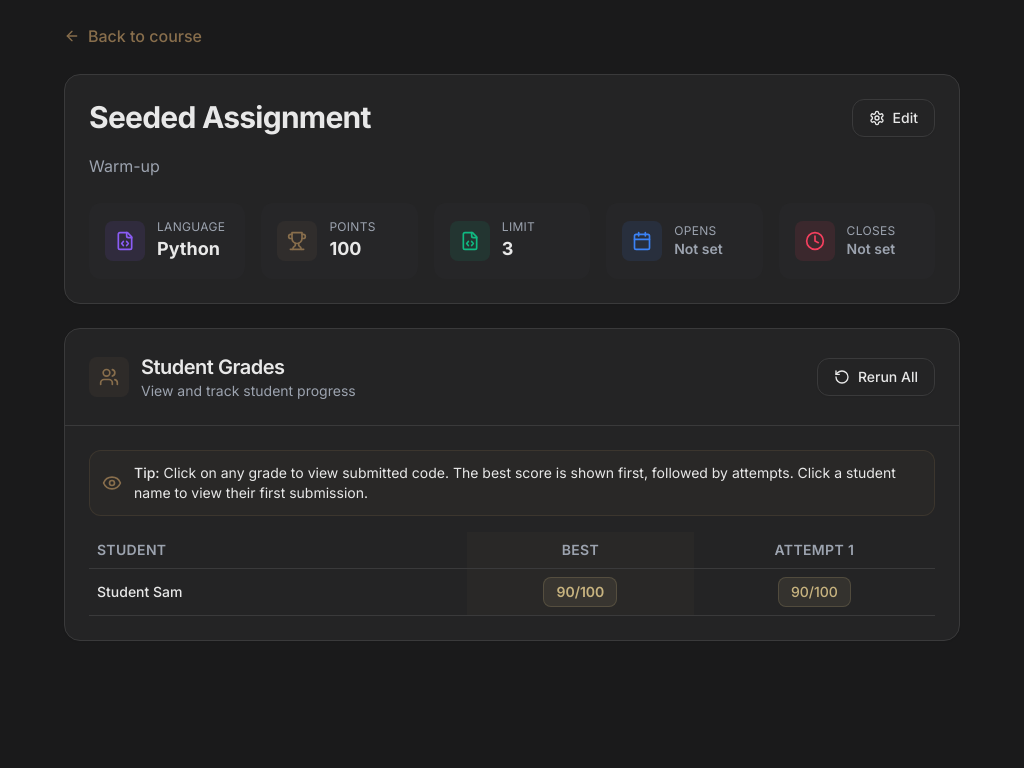
Test: AssignmentDetailPage (MSW, updated) › faculty view: rerun all students with failures
Click the button "Rerun All" at (876, 377), box [817, 358, 935, 396]
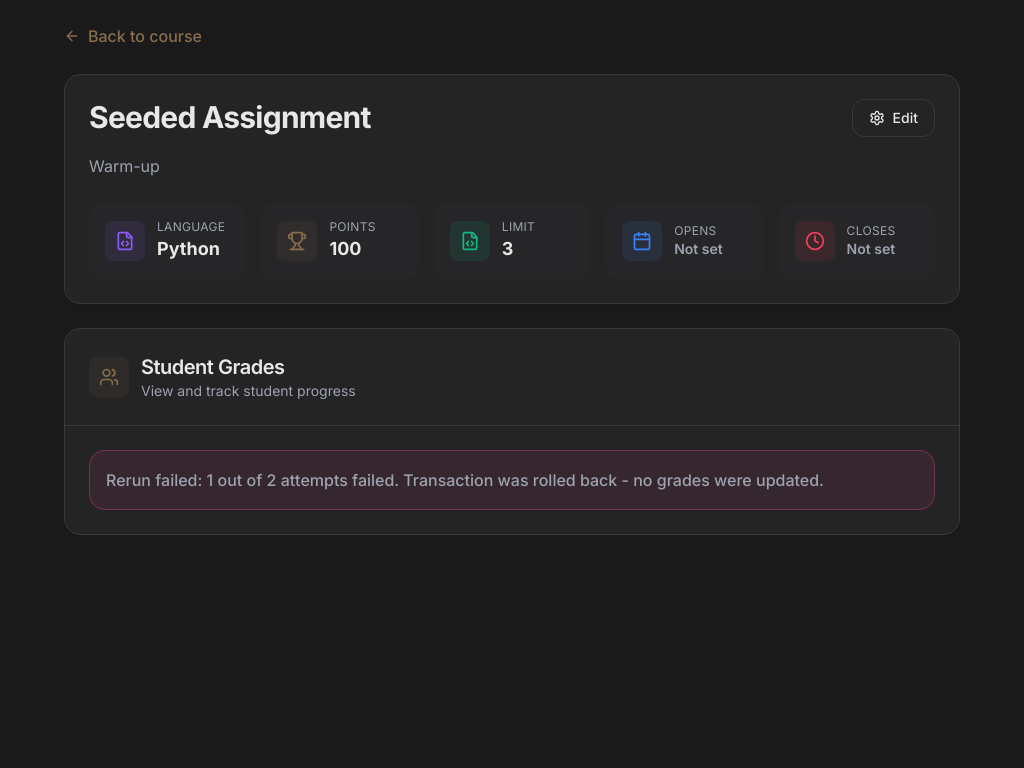
Expected: the text "Rerun failed" is shown, [106, 470, 824, 490]
